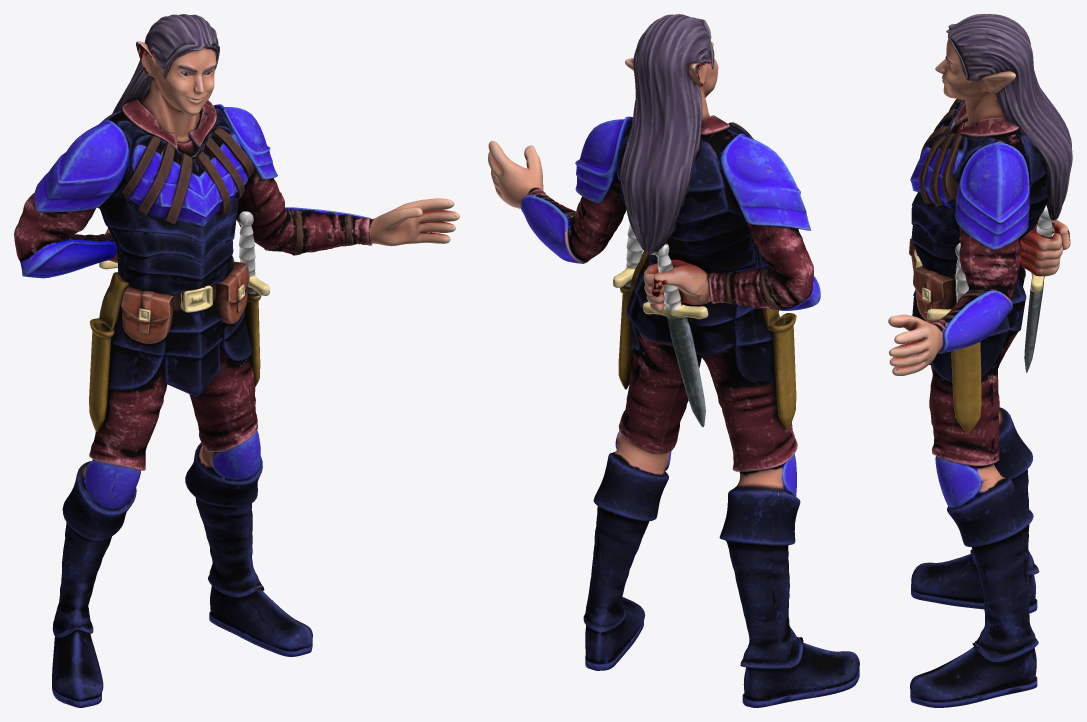
Rendered from MZ4250 - Elf Rogue.glb.
The picture shows the model from 3 angles, left to right: view 1: azimuth 30°, elevation 25°; view 2: azimuth 150°, elevation 25°; view 3: azimuth 270°, elevation 25°; orthographic projection. The views are drawn at different scales.
Parts seen in each view (by area): view 1: default; view 2: default; view 3: default.
Boxes of the visible parts, x1=… form: default: x1=14, y1=14, x2=459, y2=707; default: x1=488, y1=14, x2=859, y2=707; default: x1=888, y1=14, x2=1072, y2=707.
Size of the model in its own units: 0.6907 by 1.1 by 0.2869.
Materials: 1 (1 with a texture image).
